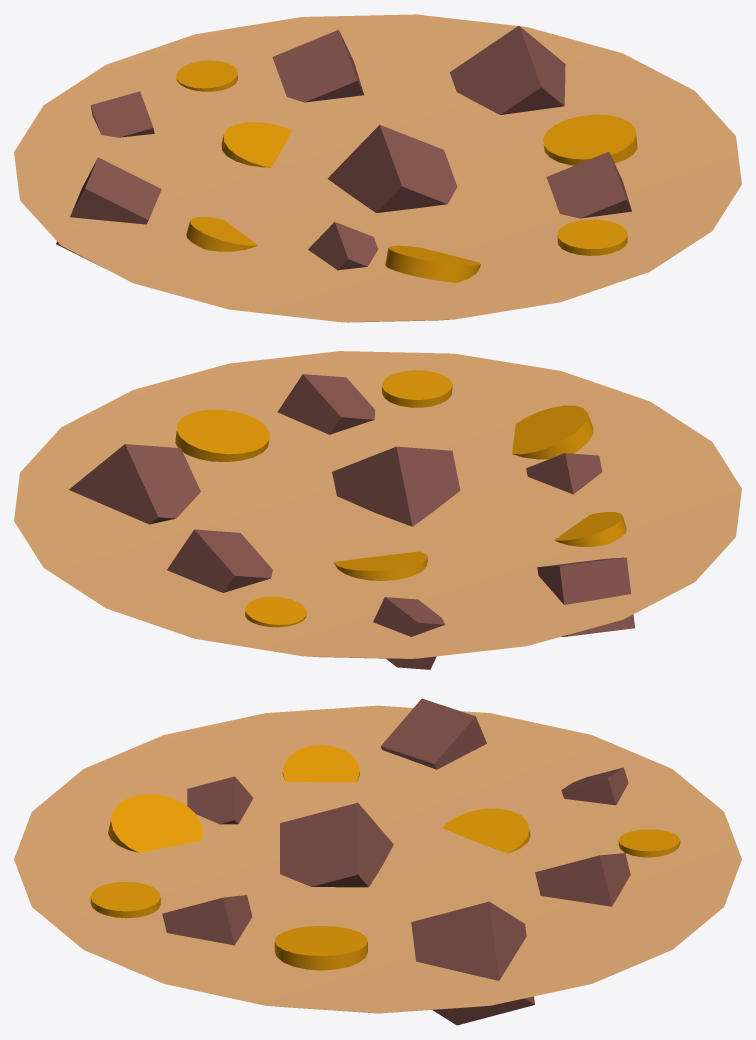
The model's file is Food.fbx.
The picture shows the model from 3 angles, top to bottom: view 1: azimuth 30°, elevation 25°; view 2: azimuth 150°, elevation 25°; view 3: azimuth 270°, elevation 25°; orthographic projection.
Parts seen in each view (by area): view 1: pCube25; view 2: pCube25; view 3: pCube25.
Part boxes in pixels (x1,y1,x2,y2): pCube25: (14,14,741,322); pCube25: (14,351,741,669); pCube25: (14,698,741,1025).
Size of the model in its own units: 1.43 by 0.285 by 1.43.
